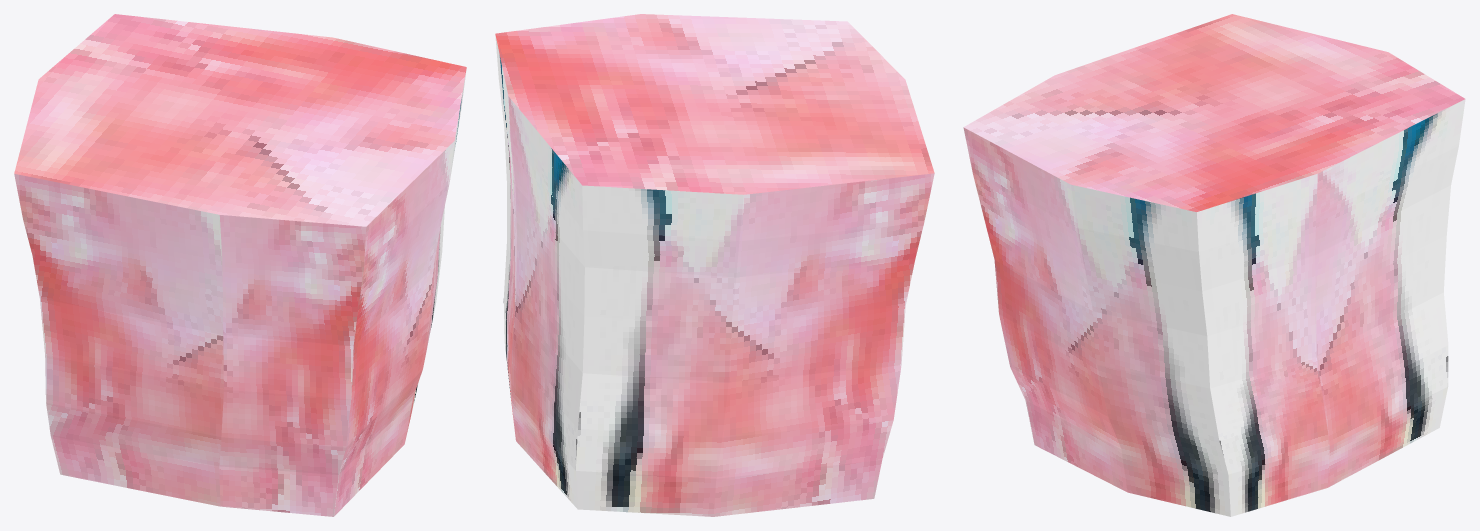
The picture shows the model from 3 angles, left to right: view 1: azimuth 30°, elevation 25°; view 2: azimuth 150°, elevation 25°; view 3: azimuth 270°, elevation 25°; orthographic projection. The views are drawn at different scales.
Visible parts, largest first — view 1: SPLICE_2; view 2: SPLICE_2; view 3: SPLICE_2.
Part boxes in pixels (x1=…): SPLICE_2: x1=14, y1=14, x2=466, y2=516; SPLICE_2: x1=495, y1=14, x2=934, y2=516; SPLICE_2: x1=963, y1=14, x2=1465, y2=516.
Size of the model in its own units: 1.25 by 0.951 by 1.26.
1 material, 1 textured.
